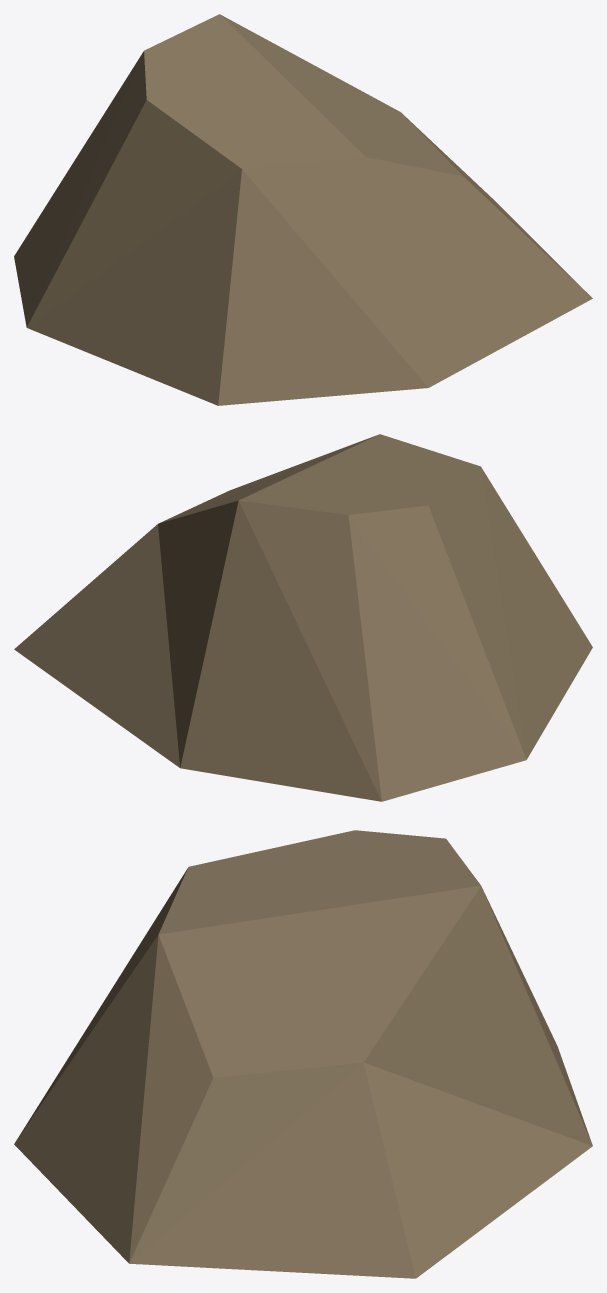
Rendered from TB_D_Env_RockD_C.FBX.
3 views of the same model, one above another, from view 1: azimuth 30°, elevation 25°; view 2: azimuth 150°, elevation 25°; view 3: azimuth 270°, elevation 25° (orthographic). The views are drawn at different scales.
Visible parts, largest first — view 1: TB_D_Env_RockD_C; view 2: TB_D_Env_RockD_C; view 3: TB_D_Env_RockD_C.
Boxes of the visible parts, bbox=[...] form: TB_D_Env_RockD_C: bbox=[14, 14, 592, 405]; TB_D_Env_RockD_C: bbox=[14, 434, 592, 801]; TB_D_Env_RockD_C: bbox=[14, 830, 592, 1278].
Bounding box in the file's own units: 1.49 × 0.6652 × 1.36.
